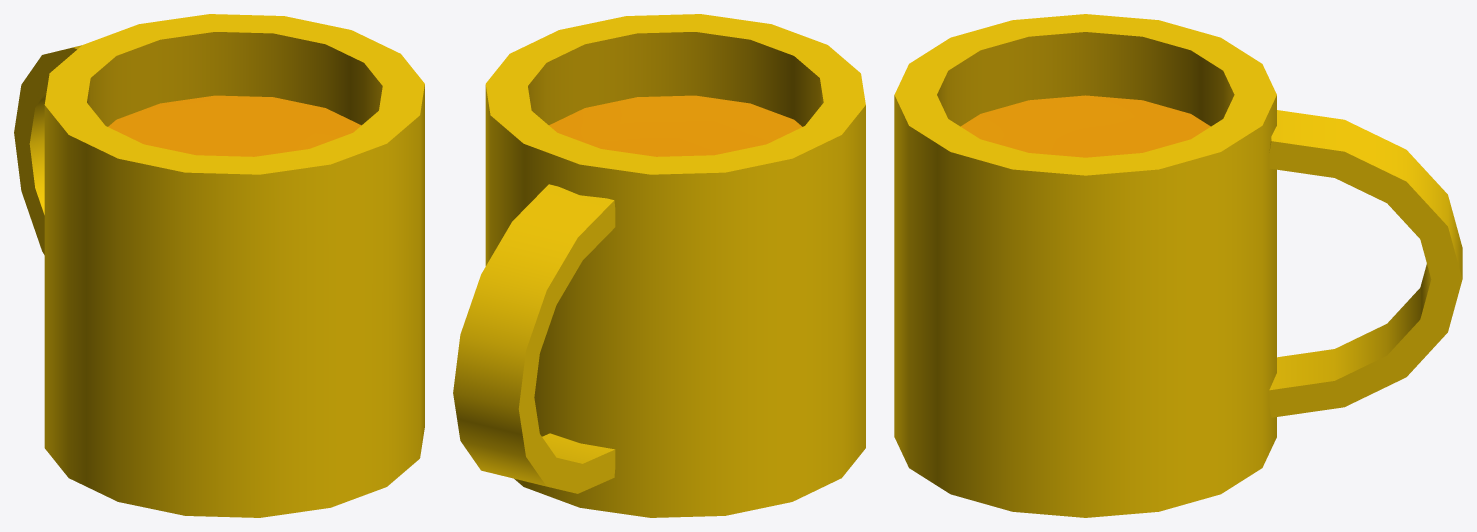
The model's file is SM_Props_Food_14.fbx.
The picture shows the model from 3 angles, left to right: view 1: azimuth 30°, elevation 25°; view 2: azimuth 150°, elevation 25°; view 3: azimuth 270°, elevation 25°; orthographic projection.
Parts seen in each view (by area): view 1: SM_Props_Food_14; view 2: SM_Props_Food_14; view 3: SM_Props_Food_14.
Part boxes in pixels (bbox=[...]): SM_Props_Food_14: bbox=[14, 14, 424, 517]; SM_Props_Food_14: bbox=[453, 14, 865, 517]; SM_Props_Food_14: bbox=[894, 14, 1462, 517].
Size of the model in its own units: 0.1537 by 0.1518 by 0.2283.
